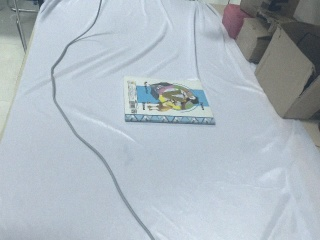book: (120, 75, 217, 128)
box: (254, 17, 319, 120), (236, 16, 274, 64)
